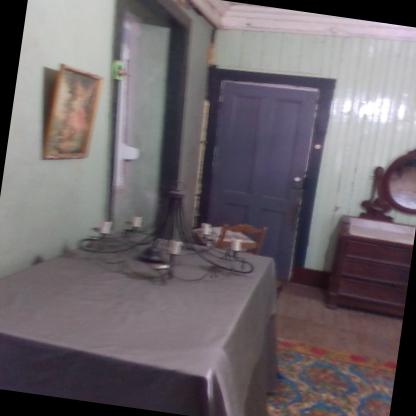closed: (176, 61, 344, 286)
